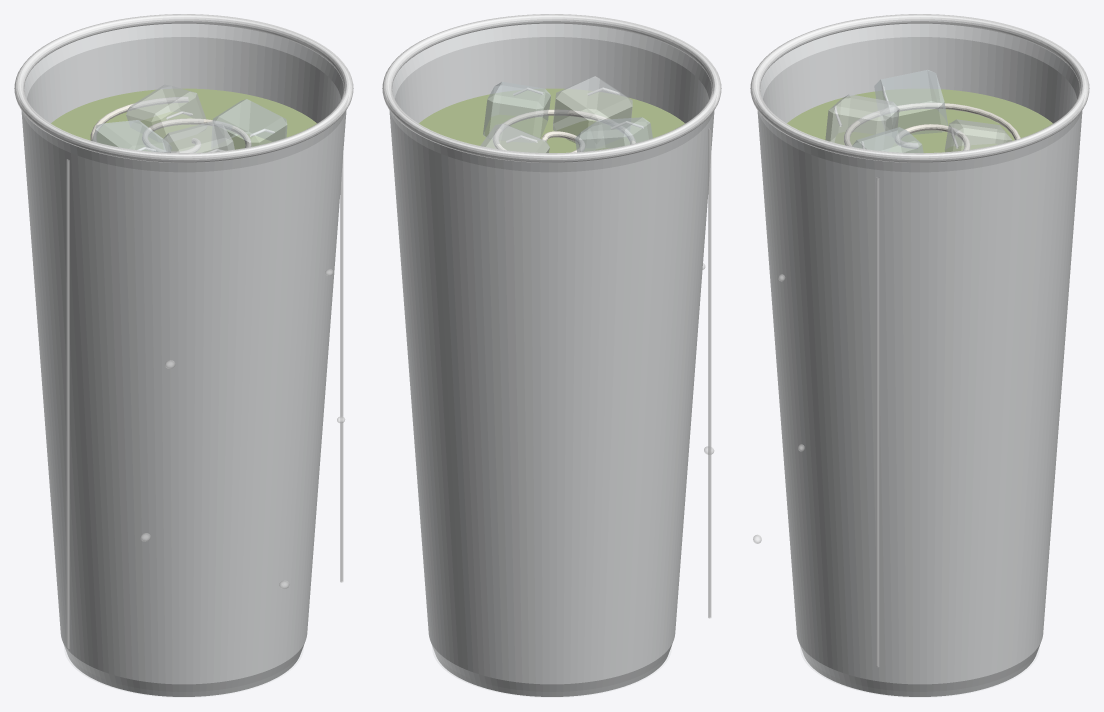
The model's file is matcha-latte.glb.
3 renders of one model, left to right at view 1: azimuth 30°, elevation 25°; view 2: azimuth 150°, elevation 25°; view 3: azimuth 270°, elevation 25°, orthographic.
Parts seen in each view (by area): view 1: Very clear glass wall, Liquid surface, Glass top rim, Translucent ice cube 04, Translucent ice cube 03, Glass edge highlight left, Translucent ice cube 01, Translucent ice cube 02, Cream and syrup surface swirl, Glass edge highlight right; view 2: Very clear glass wall, Liquid surface, Glass top rim, Translucent ice cube 02, Translucent ice cube 03, Translucent ice cube 01, Glass edge highlight left, Cream and syrup surface swirl, Translucent ice cube 04; view 3: Very clear glass wall, Liquid surface, Glass top rim, Translucent ice cube 01, Translucent ice cube 02, Cream and syrup surface swirl, Glass edge highlight right, Translucent ice cube 04, Translucent ice cube 03.
Boxes of the visible parts, x1,y1,x2,y2 form: Very clear glass wall: [18, 16, 349, 696]; Liquid surface: [51, 88, 316, 152]; Glass top rim: [14, 14, 353, 162]; Translucent ice cube 04: [126, 84, 206, 138]; Translucent ice cube 03: [211, 99, 287, 149]; Glass edge highlight left: [66, 159, 69, 649]; Translucent ice cube 01: [92, 120, 171, 152]; Translucent ice cube 02: [162, 120, 234, 152]; Cream and syrup surface swirl: [90, 97, 251, 152]; Glass edge highlight right: [340, 155, 343, 582]; Very clear glass wall: [386, 16, 717, 696]; Liquid surface: [419, 88, 684, 152]; Glass top rim: [382, 14, 721, 162]; Translucent ice cube 02: [553, 76, 632, 143]; Translucent ice cube 03: [483, 81, 550, 138]; Translucent ice cube 01: [575, 117, 652, 152]; Glass edge highlight left: [708, 128, 711, 618]; Cream and syrup surface swirl: [493, 109, 635, 152]; Translucent ice cube 04: [480, 123, 549, 152]; Very clear glass wall: [754, 16, 1085, 696]; Liquid surface: [787, 89, 1052, 152]; Glass top rim: [750, 14, 1089, 162]; Translucent ice cube 01: [874, 70, 948, 134]; Translucent ice cube 02: [825, 94, 899, 146]; Cream and syrup surface swirl: [844, 102, 1020, 150]; Glass edge highlight right: [876, 177, 879, 667]; Translucent ice cube 04: [944, 119, 1011, 151]; Translucent ice cube 03: [852, 127, 923, 152].
Size of the model in its own units: 0.616 by 1.13 by 0.616.
